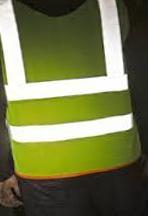Vest: (0, 0, 138, 166)
